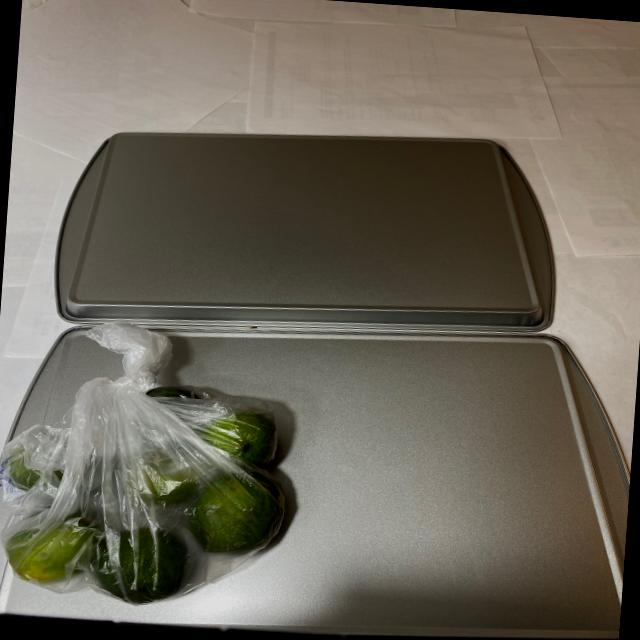lemon: (0, 363, 305, 616)
